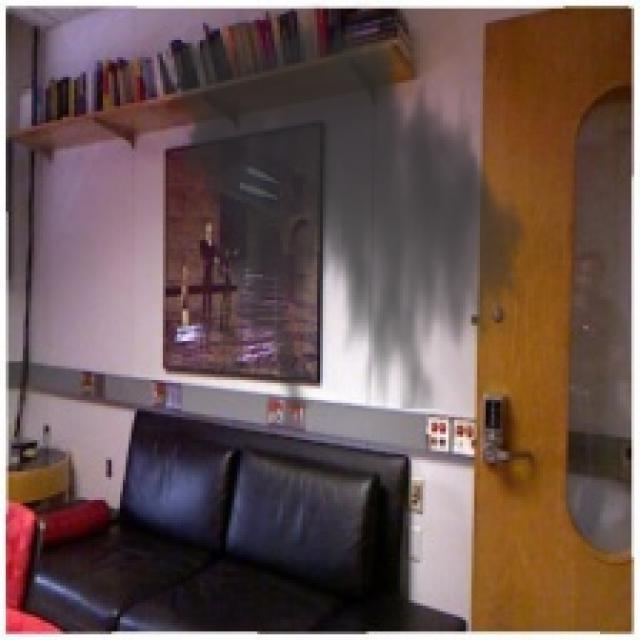Smoke: (152, 0, 537, 409)
